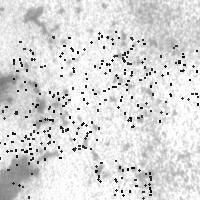pitted_surface: (63, 1, 200, 198), (1, 1, 62, 198), (2, 104, 62, 164), (72, 31, 130, 90), (47, 89, 104, 149), (13, 36, 72, 91), (115, 68, 170, 126), (30, 93, 86, 149), (106, 36, 164, 86), (95, 160, 150, 200), (169, 45, 200, 105), (0, 142, 31, 198)
